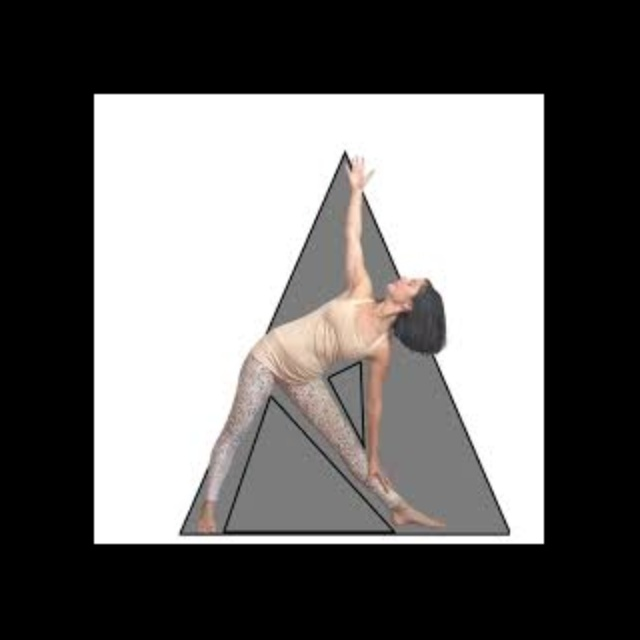Triangle_Pose: (187, 148, 458, 535)
